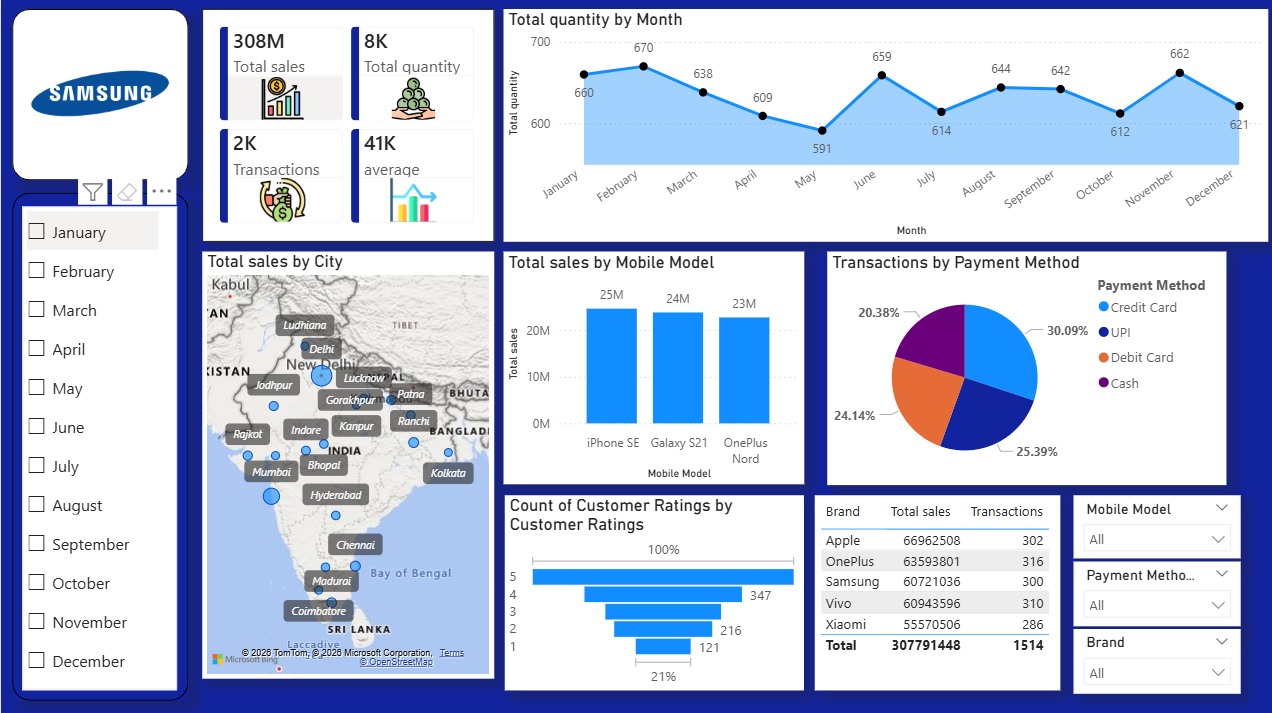

The page's visual inventory and layout, read from the dashboard file:
{"tool":"powerbi","page":{"name":"Page 1","canvas":[1280,720],"ordinal":0},"visuals":[{"type":"shape","box":[10.9,9.7,176.1,171.3],"z":0},{"type":"image","box":[16.9,31.4,162.9,126.7],"z":1000},{"type":"shape","box":[10.9,194.2,176.1,507.9],"z":2000},{"type":"listSlicer","fields":{"Values":["Sheet1.Date.Variation.Date Hierarchy.Month"]},"box":[21.7,207.5,154.4,483.8],"z":3000},{"type":"cardVisual","fields":{"Data":["Sales_data.Total sales","Sales_data.Total quantity","Sales_data.Total rows","Sales_data.average"]},"box":[201.5,9.7,292,232.8],"z":4000},{"type":"map","fields":{"Category":["Sales_data.City"],"Size":["Sales_data.Total sales"]},"box":[201.5,252.1,292,427.1],"z":5000},{"type":"lineChart","fields":{"Y":["Sales_data.Total quantity"],"Category":["Sales_data.Date.Variation.Date Hierarchy.Month","Sales_data.Date.Variation.Date Hierarchy.Day"]},"box":[503.1,9.7,764.9,232.8],"z":6000},{"type":"clusteredColumnChart","fields":{"Category":["Sales_data.Mobile Model"],"Y":["Sales_data.Total sales"]},"box":[503.1,252.1,300.4,232.8],"z":7000},{"type":"pieChart","fields":{"Category":["Sales_data.Payment Method"],"Y":["Sales_data.Transactions"]},"box":[826.1,252.5,399.3,233.3],"z":8000},{"type":"funnel","fields":{"Category":["Sales_data.Customer Ratings"],"Y":["CountNonNull(Sales_data.Customer Ratings)"]},"box":[503.6,496.7,299.1,194.9],"z":9000},{"type":"tableEx","fields":{"Values":["Sales_data.Brand","Sales_data.Total sales","Sales_data.Transactions"]},"box":[813.7,496.7,245.6,194.9],"z":10000},{"type":"slicer","fields":{"Values":["Sales_data.Mobile Model"]},"box":[1073.1,496.7,167.4,63.1],"z":11000},{"type":"slicer","fields":{"Values":["Sales_data.Payment Method","Sales_data.Mobile Model"]},"box":[1073.1,562.6,167.4,64.5],"z":11001},{"type":"slicer","fields":{"Values":["Sales_data.Brand"]},"box":[1073.1,629.8,167.4,64.5],"z":11002}]}

Visuals, with their boxes in screenshot pixels (x1, y1, x2, y2), scaled from the page's 1280x720 canvas onto the 1272x713 screenshot:
shape: <bbox>11, 10, 186, 179</bbox>
image: <bbox>17, 31, 179, 157</bbox>
shape: <bbox>11, 192, 186, 695</bbox>
listSlicer - Sheet1.Date.Variation.Date Hierarchy.Month: <bbox>22, 205, 175, 685</bbox>
cardVisual - Sales_data.Total sales x Sales_data.Total quantity: <bbox>200, 10, 490, 240</bbox>
map - Sales_data.City x Sales_data.Total sales: <bbox>200, 250, 490, 673</bbox>
lineChart - Sales_data.Total quantity x Sales_data.Date.Variation.Date Hierarchy.Month: <bbox>500, 10, 1260, 240</bbox>
clusteredColumnChart - Sales_data.Mobile Model x Sales_data.Total sales: <bbox>500, 250, 798, 480</bbox>
pieChart - Sales_data.Payment Method x Sales_data.Transactions: <bbox>821, 250, 1218, 481</bbox>
funnel - Sales_data.Customer Ratings x CountNonNull(Sales_data.Customer Ratings): <bbox>500, 492, 798, 685</bbox>
tableEx - Sales_data.Brand x Sales_data.Total sales: <bbox>809, 492, 1053, 685</bbox>
slicer - Sales_data.Mobile Model: <bbox>1066, 492, 1233, 554</bbox>
slicer - Sales_data.Payment Method x Sales_data.Mobile Model: <bbox>1066, 557, 1233, 621</bbox>
slicer - Sales_data.Brand: <bbox>1066, 624, 1233, 688</bbox>
